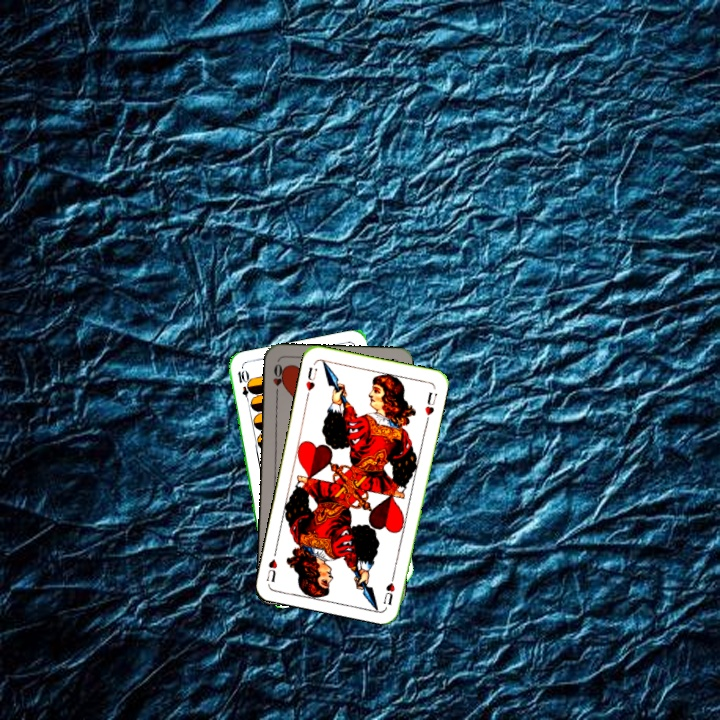E10: (234, 366, 254, 406)
HO: (269, 359, 287, 399)
HU: (379, 568, 398, 608), (302, 363, 320, 400)
